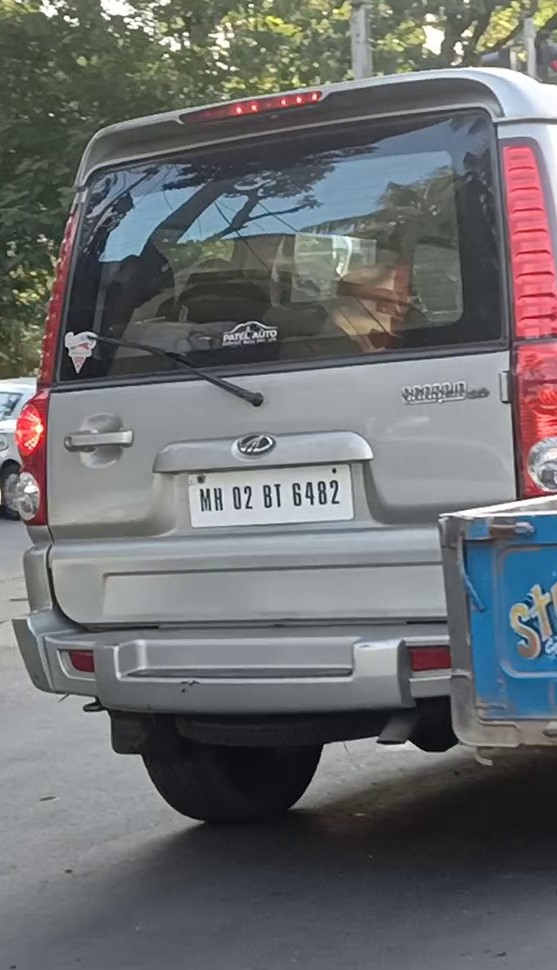MH02BT6482: (188, 459, 353, 526)
